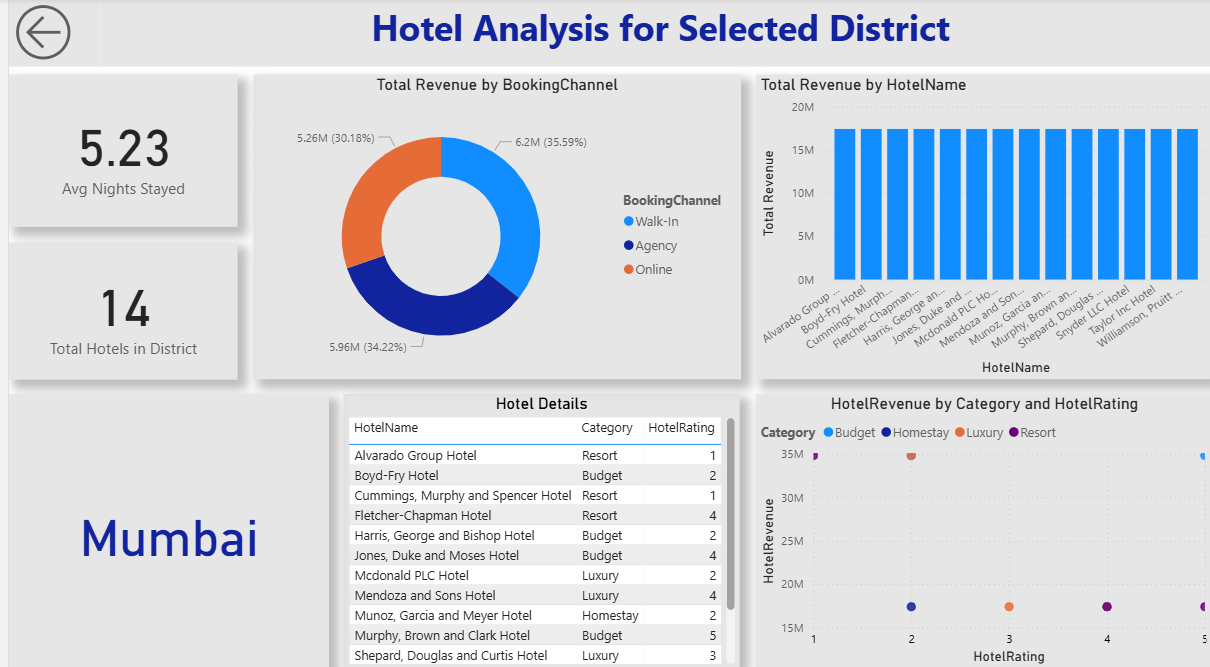

What the dashboard file says about the page in this screenshot:
{"tool":"powerbi","page":{"name":"Hotel_Level_Analysis","canvas":[1280,720],"ordinal":1},"visuals":[{"type":"actionButton","box":[0,0,96,72],"z":0},{"type":"textbox","box":[96,0,1176,72],"z":1000},{"type":"tableEx","title":"Hotel Details","fields":{"Values":["HospitalityDim.HotelName","HospitalityDim.Category","HospitalityDim.HotelRatingNumeric"]},"box":[352,416,416,288],"z":2000},{"type":"donutChart","fields":{"Category":["TourismRevenueFact.BookingChannel"],"Y":["TourismRevenueFact.Total Revenue"]},"box":[256,80,512,320],"z":3000},{"type":"card","fields":{"Values":["TourismRevenueFact.Avg Nights Stayed"]},"box":[0,80,240,160],"z":4000},{"type":"card","fields":{"Values":["CategoryDim.Total Hotels in District"]},"box":[0,256,240,144],"z":5000},{"type":"columnChart","fields":{"Category":["HospitalityDim.HotelName"],"Y":["TourismRevenueFact.Total Revenue"]},"box":[784,80,480,320],"z":6000},{"type":"scatterChart","fields":{"X":["HospitalityDim.HotelRating"],"Y":["CategoryDim.HotelRevenue"],"Series":["HospitalityDim.Category"]},"box":[784,416,480,288],"z":7000},{"type":"card","fields":{"Values":["DistrictDim.DistrictName"]},"box":[0,416,336,288],"z":8000}]}

Visuals, with their boxes in screenshot pixels (x1, y1, x2, y2), scaled from the page's 1280x720 canvas onto the 1210x667 screenshot:
actionButton: (0,0,91,67)
textbox: (91,0,1202,67)
"Hotel Details" tableEx: (333,385,726,652)
donutChart - TourismRevenueFact.BookingChannel x TourismRevenueFact.Total Revenue: (242,74,726,371)
card - TourismRevenueFact.Avg Nights Stayed: (0,74,227,222)
card - CategoryDim.Total Hotels in District: (0,237,227,371)
columnChart - HospitalityDim.HotelName x TourismRevenueFact.Total Revenue: (741,74,1195,371)
scatterChart - HospitalityDim.HotelRating x CategoryDim.HotelRevenue: (741,385,1195,652)
card - DistrictDim.DistrictName: (0,385,318,652)
